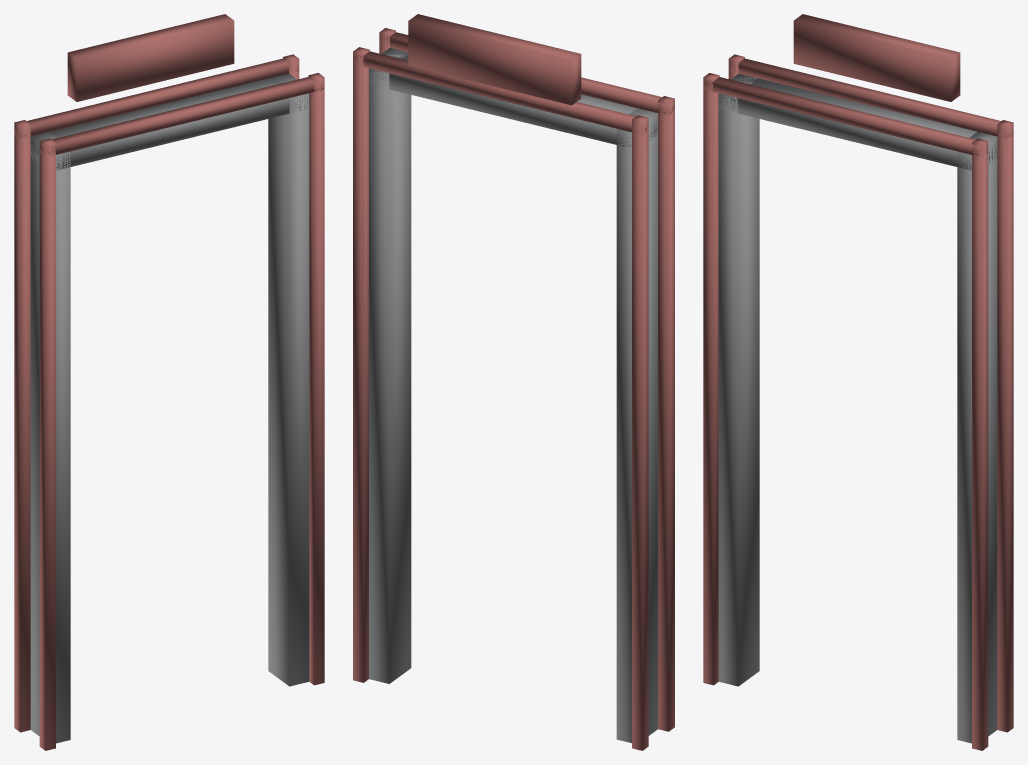
The model's file is doorway_emergency_exit_w96_h240_d16.glb.
3 views of the same model, side by side, from view 1: azimuth 30°, elevation 25°; view 2: azimuth 150°, elevation 25°; view 3: azimuth 330°, elevation 25° (orthographic). The views are drawn at different scales.
Parts seen in each view (by area): view 1: world; view 2: world; view 3: world.
Boxes of the visible parts, x1,y1,x2,y2 form: world: [14, 14, 324, 750]; world: [353, 14, 674, 750]; world: [703, 14, 1013, 750].
Size of the model in its own units: 1.22 by 2.75 by 0.2932.
